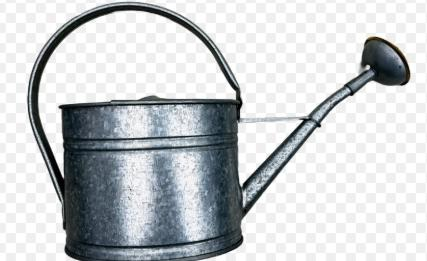ARROSOIR: (0, 3, 418, 261)
